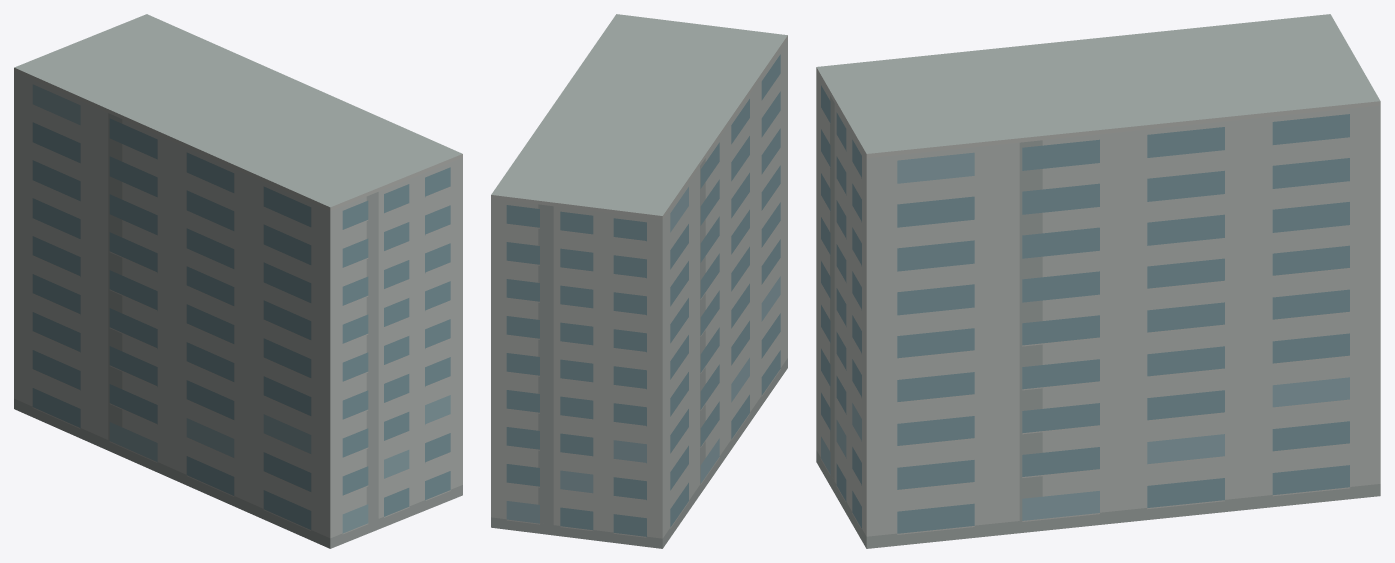
File: residential-10d3c47a-1281-49bf-8cb0-ee57770f697f.glb
The picture shows the model from 3 angles, left to right: view 1: azimuth 30°, elevation 25°; view 2: azimuth 150°, elevation 25°; view 3: azimuth 270°, elevation 25°; orthographic projection. The views are drawn at different scales.
Visible parts, largest first — view 1: residential-10d3c47a-1281-49bf-8cb0-ee57770f697f.tmp; view 2: residential-10d3c47a-1281-49bf-8cb0-ee57770f697f.tmp; view 3: residential-10d3c47a-1281-49bf-8cb0-ee57770f697f.tmp.
Boxes of the visible parts, x1,y1,x2,y2 form: residential-10d3c47a-1281-49bf-8cb0-ee57770f697f.tmp: (14,14,462,548); residential-10d3c47a-1281-49bf-8cb0-ee57770f697f.tmp: (491,14,787,548); residential-10d3c47a-1281-49bf-8cb0-ee57770f697f.tmp: (816,14,1380,548).
Size of the model in its own units: 16.73 by 22 by 28.5.
